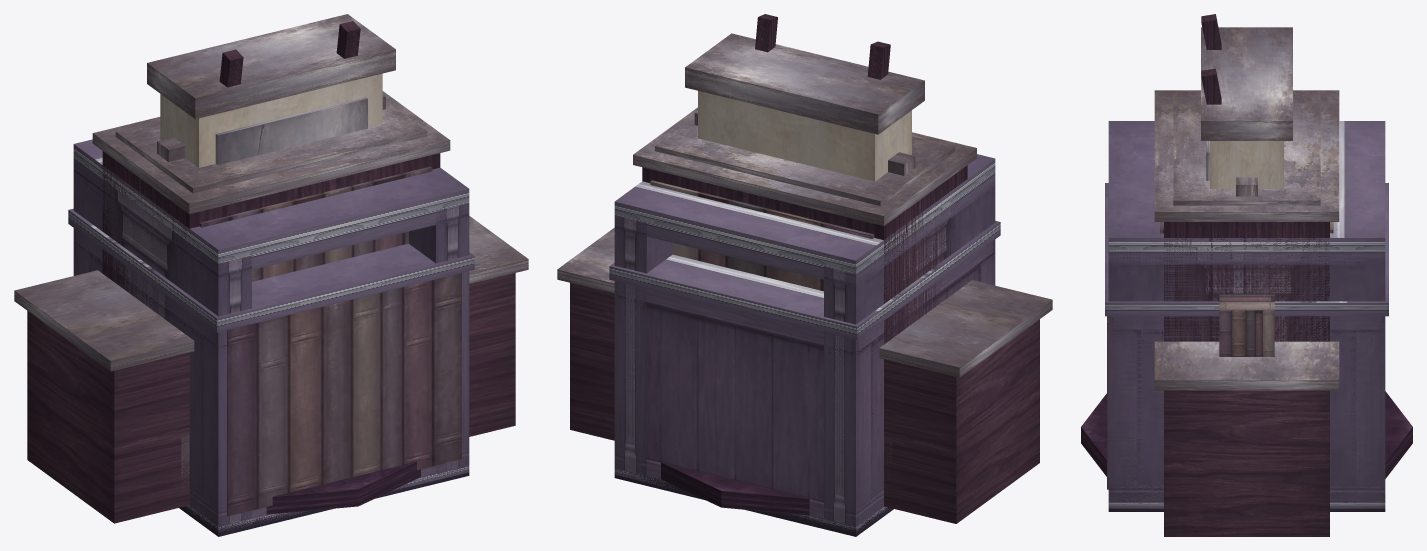
Rendered from kit.glb.
The picture shows the model from 3 angles, left to right: view 1: azimuth 30°, elevation 25°; view 2: azimuth 150°, elevation 25°; view 3: azimuth 270°, elevation 25°; orthographic projection. The views are drawn at different scales.
Visible parts, largest first — view 1: supply_counter, wall_2, door_boss_frame, stele_erased, wall_0, trap_shelf, index_cabinet, data_pad, floor_0, ladder, trap_mirror; view 2: wall_0, door_boss_frame, supply_counter, stele_erased, trap_shelf, index_cabinet, data_pad, floor_0, ladder, trap_mirror; view 3: door_boss_frame, supply_counter, trap_shelf, wall_0, stele_erased, index_cabinet, data_pad, ladder, floor_0, trap_mirror.
Boxes of the visible parts, <box> form: supply_counter: <box>14,216,528,523</box>; wall_2: <box>227,273,461,516</box>; door_boss_frame: <box>73,139,469,532</box>; stele_erased: <box>147,14,395,490</box>; wall_0: <box>68,208,474,525</box>; trap_shelf: <box>92,91,450,334</box>; index_cabinet: <box>115,101,427,193</box>; data_pad: <box>266,461,420,514</box>; floor_0: <box>179,466,469,536</box>; ladder: <box>219,21,360,87</box>; trap_mirror: <box>157,95,385,161</box>; wall_0: <box>609,221,1000,526</box>; door_boss_frame: <box>614,154,995,532</box>; supply_counter: <box>557,228,1052,523</box>; stele_erased: <box>685,33,924,475</box>; trap_shelf: <box>633,107,976,344</box>; index_cabinet: <box>655,117,954,205</box>; data_pad: <box>661,462,809,515</box>; floor_0: <box>614,468,893,536</box>; ladder: <box>755,14,890,79</box>; trap_mirror: <box>694,111,915,175</box>; door_boss_frame: <box>1108,121,1385,508</box>; supply_counter: <box>1154,294,1339,536</box>; trap_shelf: <box>1154,90,1339,341</box>; wall_0: <box>1105,183,1388,501</box>; stele_erased: <box>1201,27,1292,188</box>; index_cabinet: <box>1173,91,1320,205</box>; data_pad: <box>1081,391,1412,478</box>; ladder: <box>1201,14,1221,104</box>; floor_0: <box>1108,502,1385,511</box>; trap_mirror: <box>1236,177,1257,196</box>.
Bounding box in the file's own units: 2.5 × 2.45 × 1.8.
Materials: 3 (3 with a texture image).
